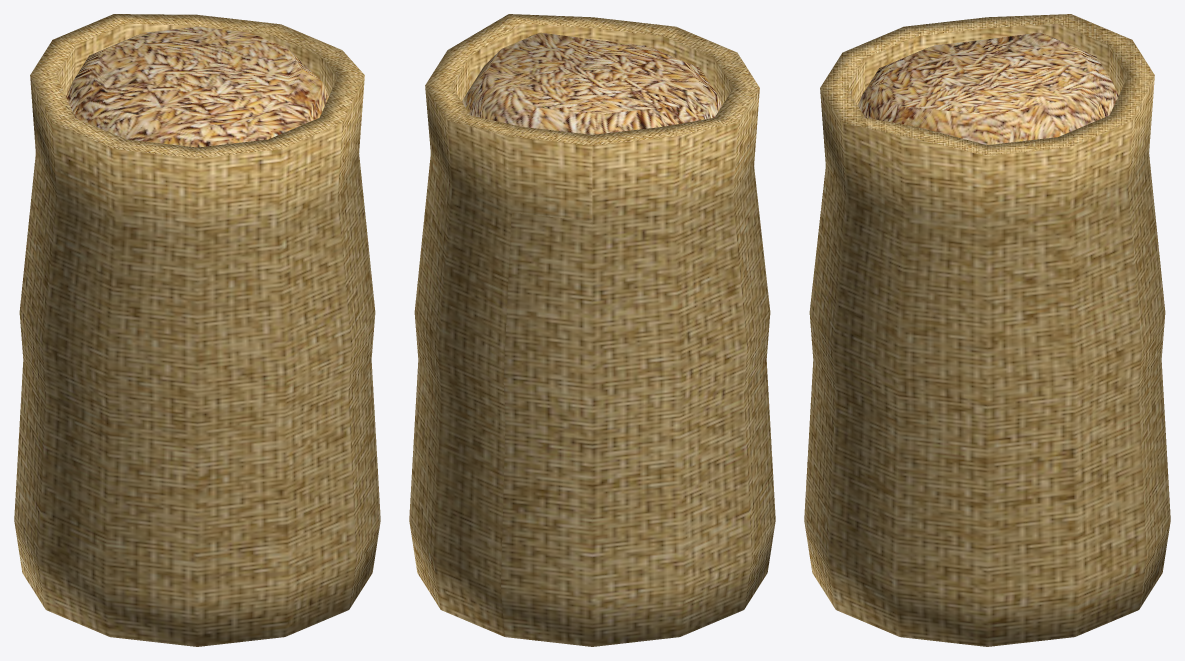
The model's file is grainsack3.gltf.
3 views of the same model, side by side, from view 1: azimuth 30°, elevation 25°; view 2: azimuth 150°, elevation 25°; view 3: azimuth 270°, elevation 25° (orthographic).
Visible parts, largest first — view 1: grainsack3; view 2: grainsack3; view 3: grainsack3.
Part boxes in pixels (x1,y1,x2,y2): grainsack3: [14, 14, 380, 646]; grainsack3: [409, 14, 775, 646]; grainsack3: [804, 14, 1170, 646].
Size of the model in its own units: 0.3735 by 0.5644 by 0.3736.
Materials: 2 (2 with a texture image).
